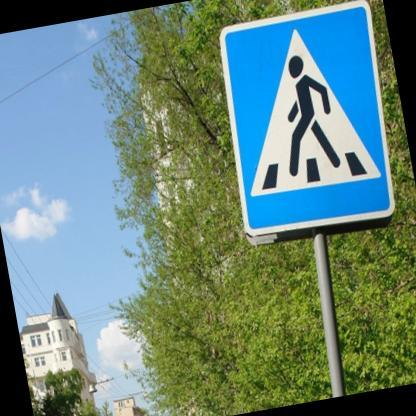road_sign: (221, 0, 394, 244)
